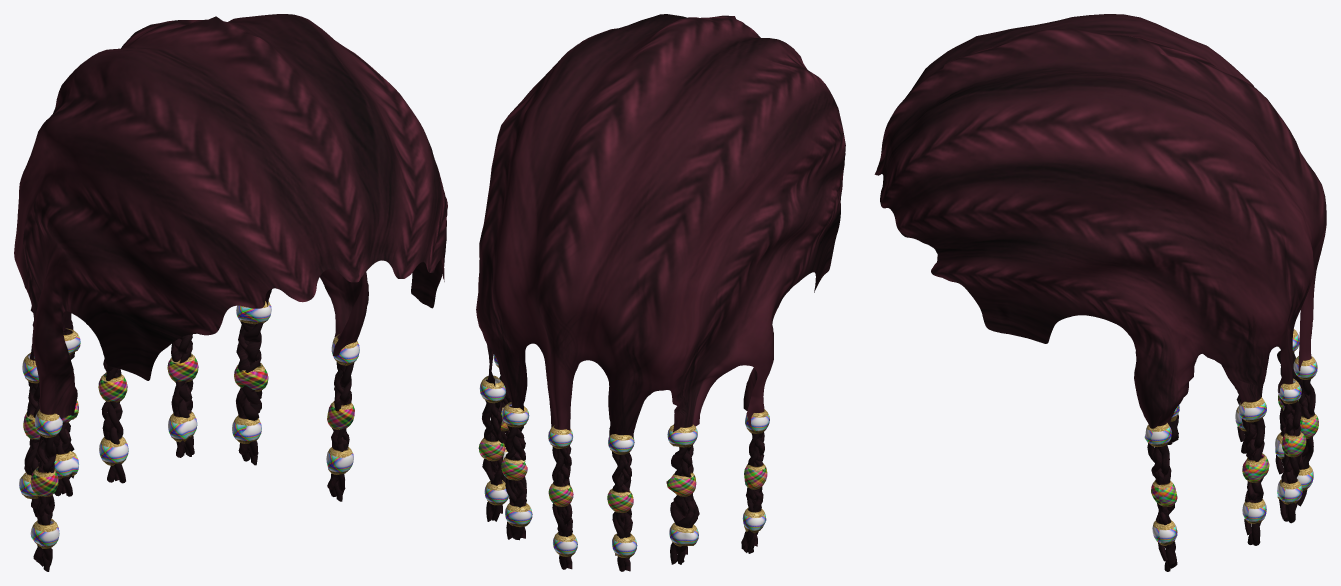
The model's file is mh_elvs_braided_rows.glb.
3 renders of one model, left to right at view 1: azimuth 30°, elevation 25°; view 2: azimuth 150°, elevation 25°; view 3: azimuth 270°, elevation 25°, orthographic. The views are drawn at different scales.
Visible parts, largest first — view 1: mh_elvs_braided_rows; view 2: mh_elvs_braided_rows; view 3: mh_elvs_braided_rows.
Part boxes in pixels (x1,y1,x2,y2): mh_elvs_braided_rows: (14, 14, 447, 571); mh_elvs_braided_rows: (476, 14, 845, 571); mh_elvs_braided_rows: (874, 14, 1326, 571).
Bounding box in the file's own units: 0.1768 × 0.2704 × 0.2322.
Materials: 1 (1 with a texture image).
